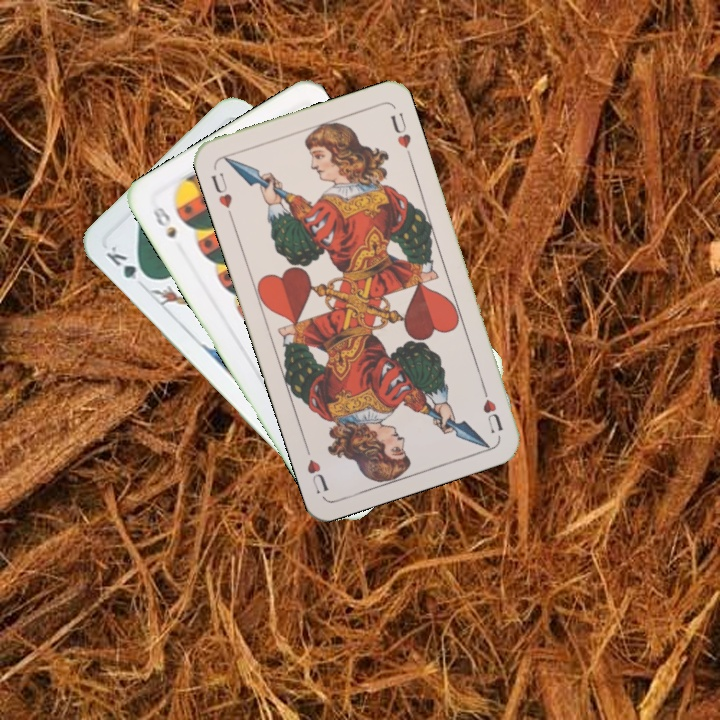GK: (101, 242, 153, 283)
HU: (478, 380, 505, 436), (207, 168, 235, 211)
S8: (148, 203, 180, 241)
